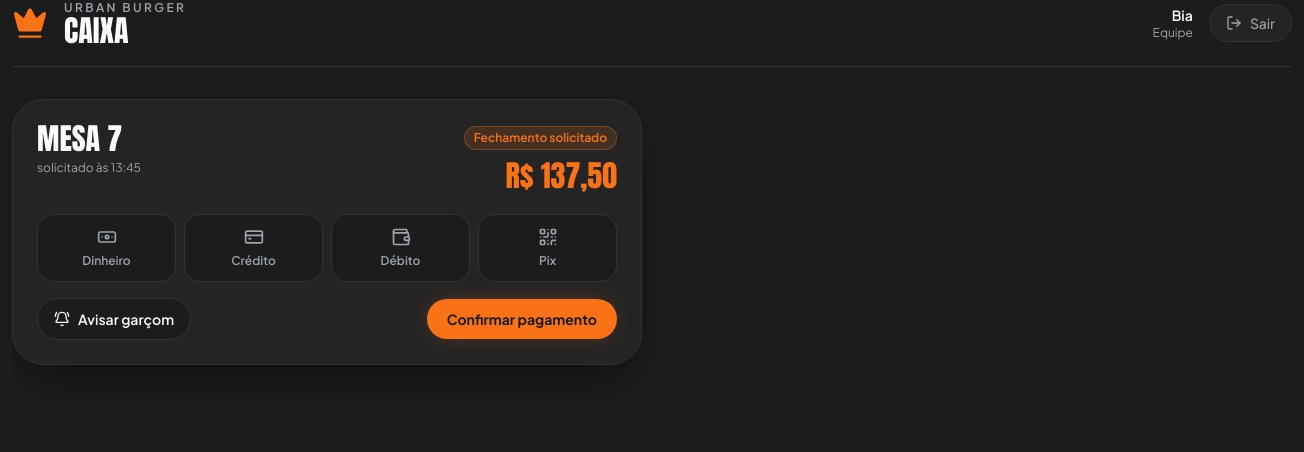
Scenario: CaixaDashboard — avisar garçom › mostra a mensagem do backend quando avisar o garçom é barrado
Step 1. Click the button "Avisar garçom" → x=114, y=319, box 37,298 -> 191,340
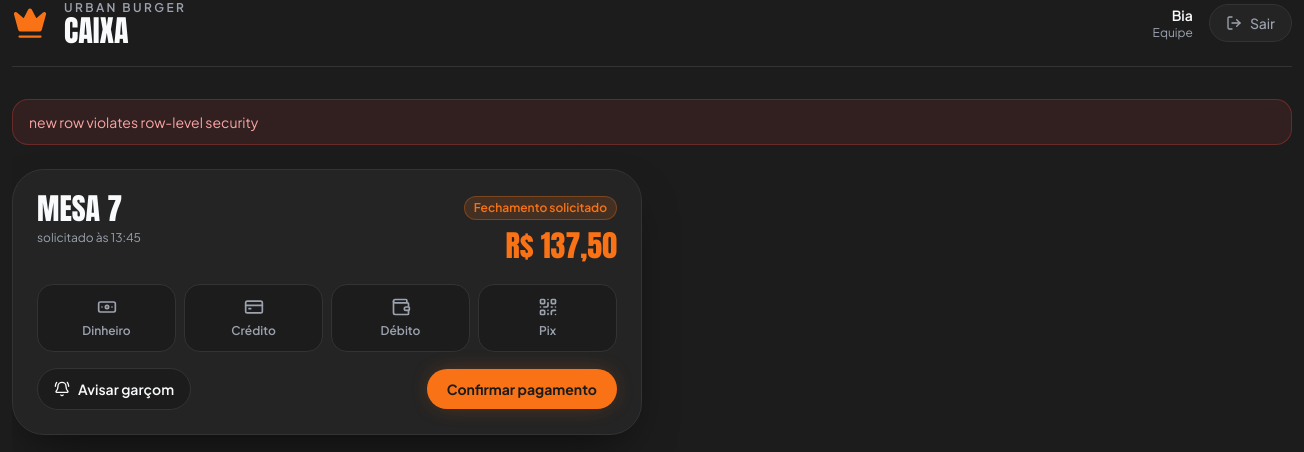
Result: the text "new row violates row-level security" is shown at 12,99 -> 1292,145
